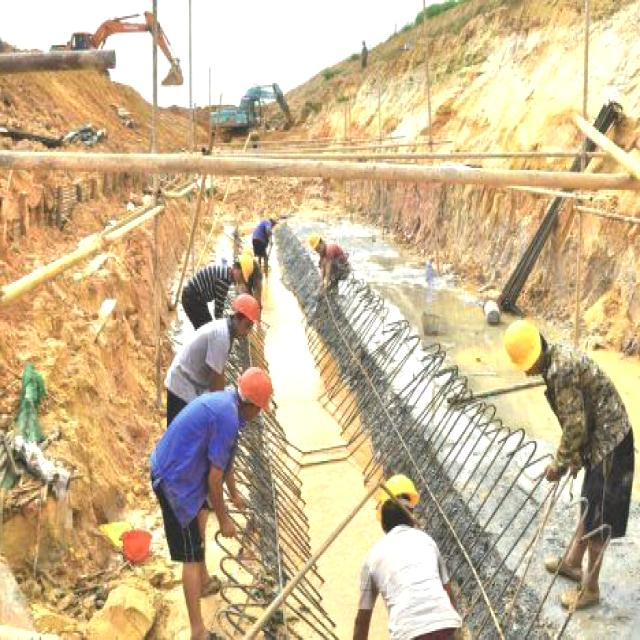hand_noglove: (544, 456, 569, 486), (226, 484, 250, 514), (216, 517, 241, 542)
head_helmet: (373, 474, 422, 517), (503, 322, 542, 376), (237, 364, 272, 411), (119, 522, 150, 560), (228, 293, 260, 322), (237, 253, 256, 280), (310, 231, 320, 248), (268, 210, 278, 220)
person: (502, 313, 637, 613), (153, 370, 283, 636), (349, 468, 461, 635), (165, 302, 238, 412), (185, 248, 250, 322), (309, 228, 346, 293), (253, 206, 278, 268)
shoes: (551, 576, 609, 616), (542, 550, 585, 580)
